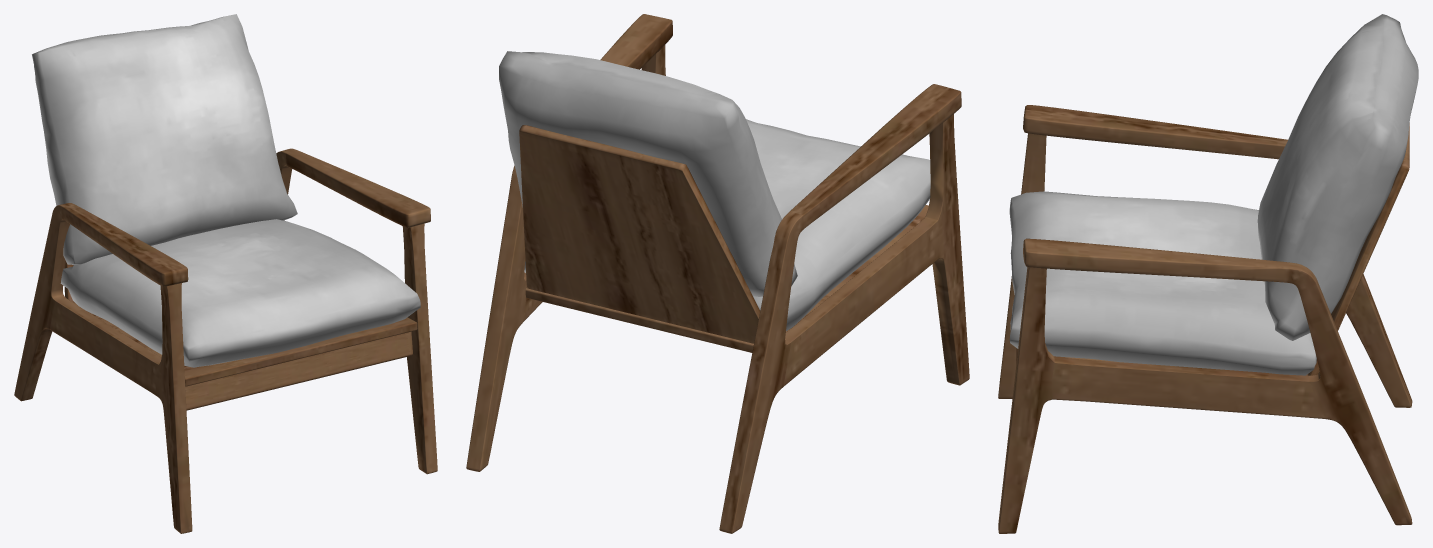
Rendered from armchair-lounge.glb.
3 views of the same model, side by side, from view 1: azimuth 30°, elevation 25°; view 2: azimuth 150°, elevation 25°; view 3: azimuth 270°, elevation 25° (orthographic). The views are drawn at different scales.
Visible parts, largest first — view 1: modern_arm_chair_01; view 2: modern_arm_chair_01; view 3: modern_arm_chair_01.
Boxes of the visible parts, <box> form: modern_arm_chair_01: <box>14,14,437,533</box>; modern_arm_chair_01: <box>466,14,969,533</box>; modern_arm_chair_01: <box>998,14,1418,533</box>.
Bounding box in the file's own units: 0.8203 × 1.02 × 0.9865.
2 materials, 2 textured.
